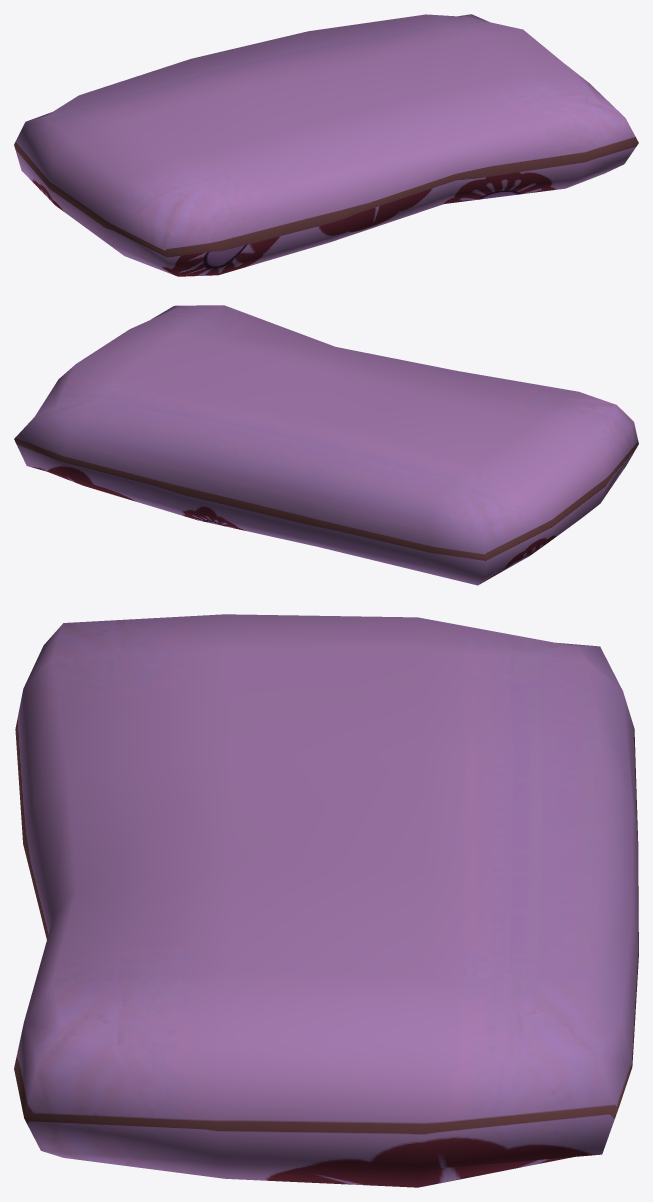
Rendered from nt_2020_pillow_01_LOD1.obj.
3 renders of one model, top to bottom at view 1: azimuth 30°, elevation 25°; view 2: azimuth 150°, elevation 25°; view 3: azimuth 270°, elevation 25°, orthographic. The views are drawn at different scales.
Visible parts, largest first — view 1: mtl_nt_2020_pillow_01; view 2: mtl_nt_2020_pillow_01; view 3: mtl_nt_2020_pillow_01.
Boxes of the visible parts, x1,y1,x2,y2 form: mtl_nt_2020_pillow_01: [14, 14, 638, 276]; mtl_nt_2020_pillow_01: [14, 305, 638, 585]; mtl_nt_2020_pillow_01: [14, 614, 638, 1187].
Bounding box in the file's own units: 91.86 × 17.5 × 52.6.
